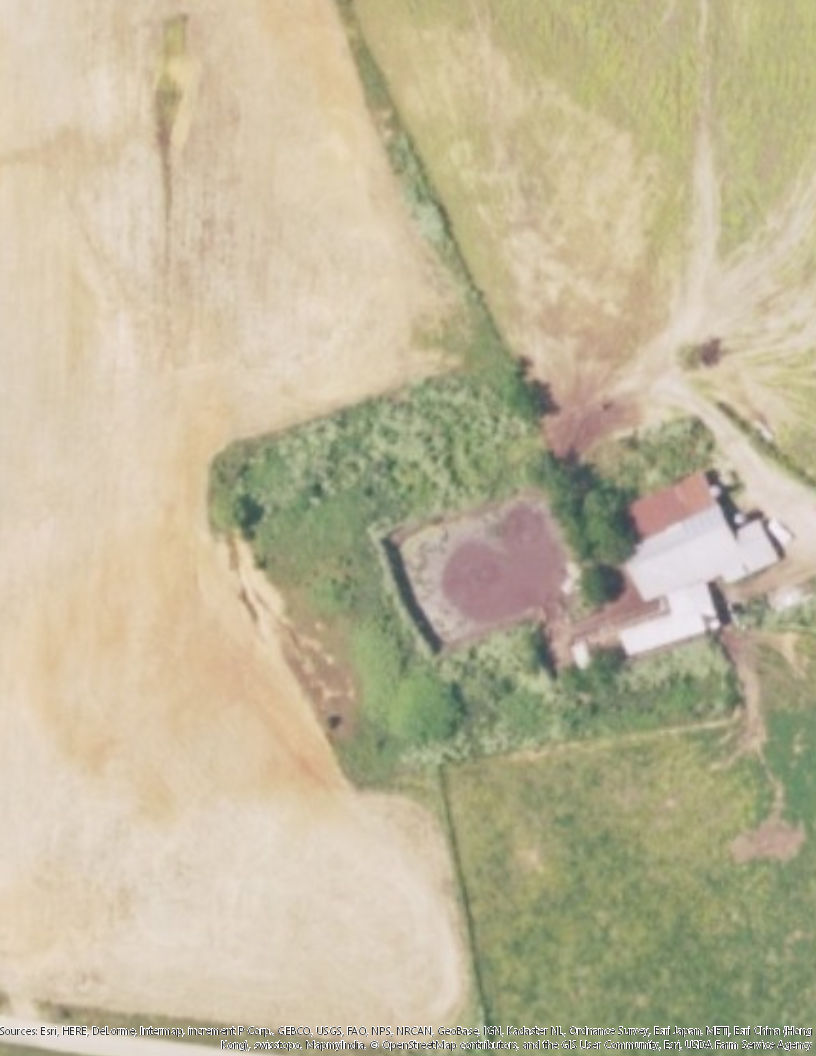cafo: (570, 500, 789, 676)
